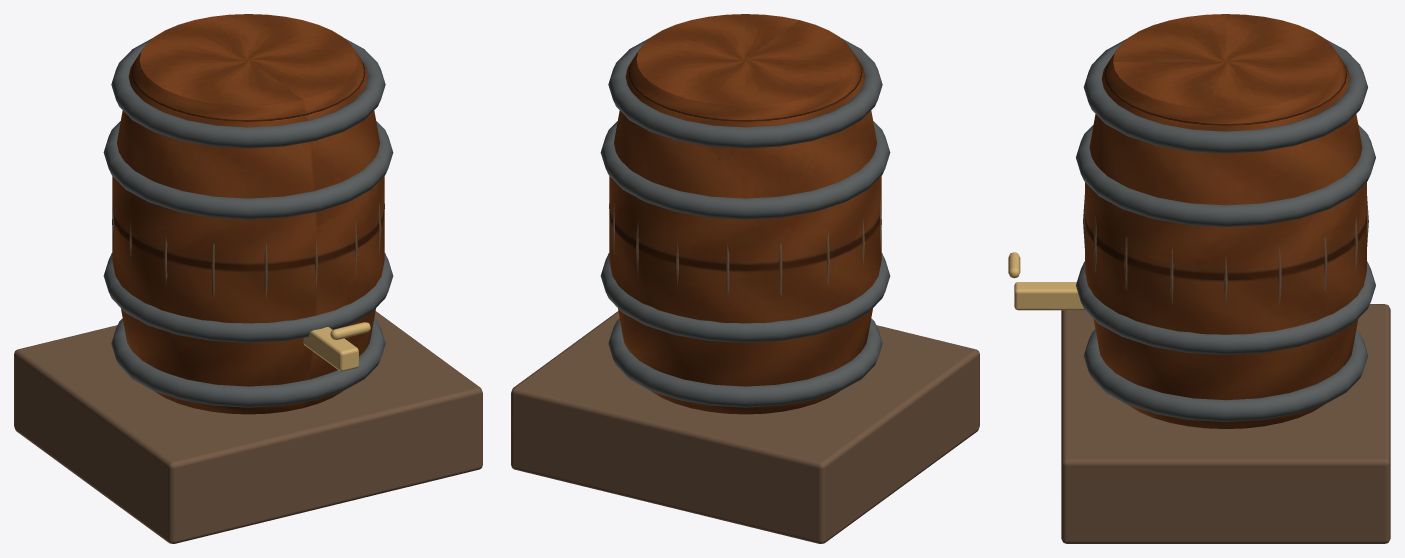
The model's file is adventurers-tavern-and-guild-hall-keg-on-stand-89a3285f__24714.glb.
The picture shows the model from 3 angles, left to right: view 1: azimuth 30°, elevation 25°; view 2: azimuth 150°, elevation 25°; view 3: azimuth 270°, elevation 25°; orthographic projection. The views are drawn at different scales.
Visible parts, largest first — view 1: keg-on-stand; view 2: keg-on-stand; view 3: keg-on-stand.
Part boxes in pixels (x1,y1,x2,y2): keg-on-stand: (14,14,482,543); keg-on-stand: (511,14,979,543); keg-on-stand: (1008,14,1390,543).
Bounding box in the file's own units: 0.8 × 0.95 × 0.8125.
4 materials, 1 textured.
